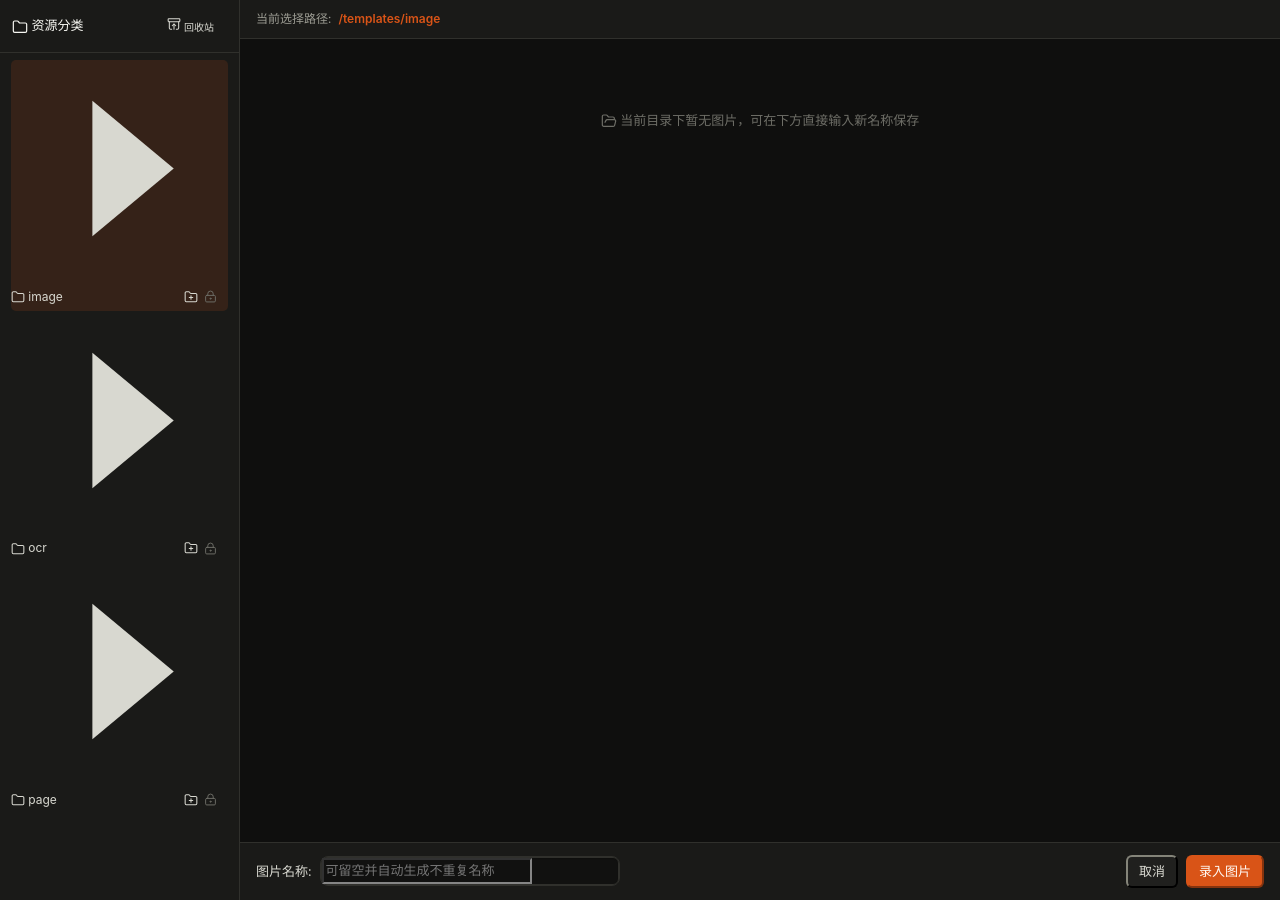
Test: 捕获后的桌面资源管理器完整入口 › 录入和视觉捕获保存时默认 image，但三个用途目录始终同时可选
The image size is (1280, 900).
Click the list item "page" at (120,688), box [6,563,233,814]
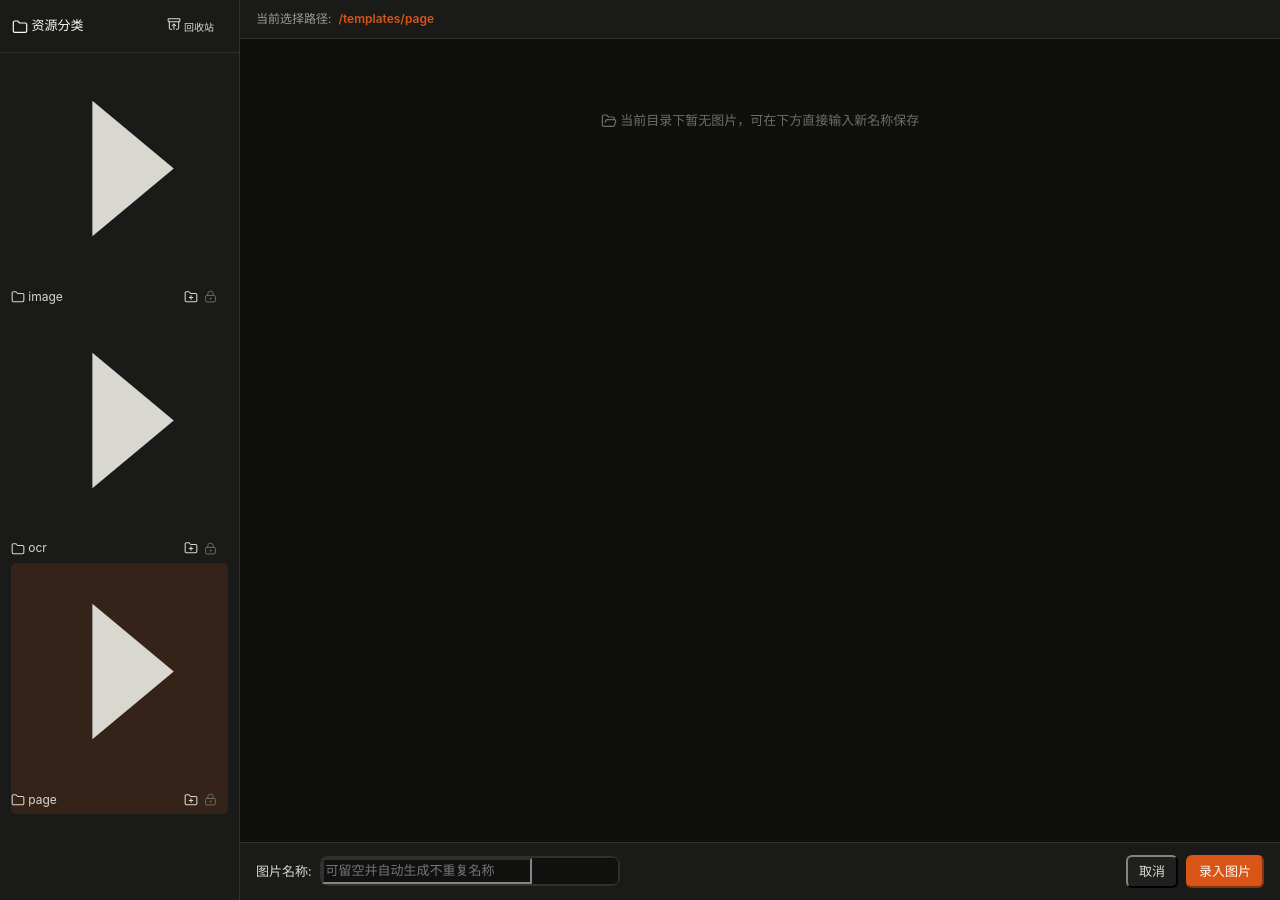
Expected: the text "/templates/page" is shown, [338,11,434,26]
